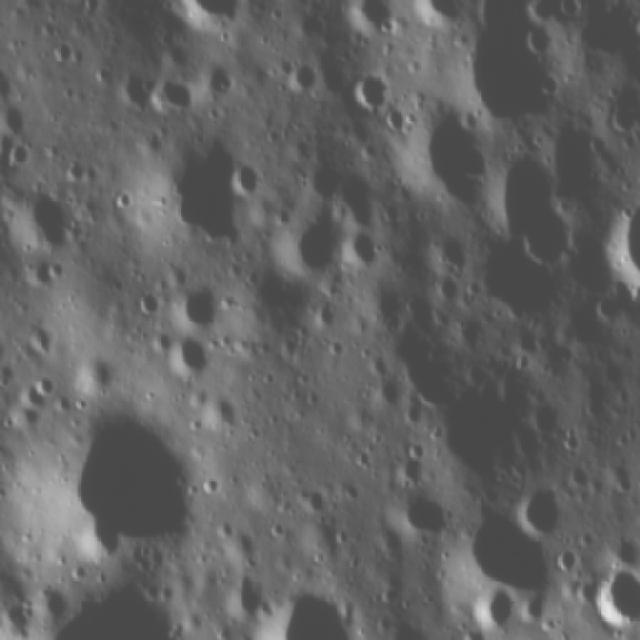crater: (34, 406, 178, 556), (458, 504, 552, 636), (38, 581, 187, 640), (240, 586, 378, 640), (606, 187, 640, 318), (0, 195, 65, 257), (595, 556, 640, 629), (393, 494, 450, 543), (174, 322, 214, 381), (177, 0, 240, 35), (348, 68, 392, 110), (150, 76, 192, 118), (182, 284, 228, 322), (344, 0, 390, 35), (222, 158, 260, 198), (285, 58, 321, 96), (345, 223, 384, 257), (416, 0, 452, 31), (206, 62, 242, 92), (550, 0, 581, 18), (0, 306, 2, 349)
